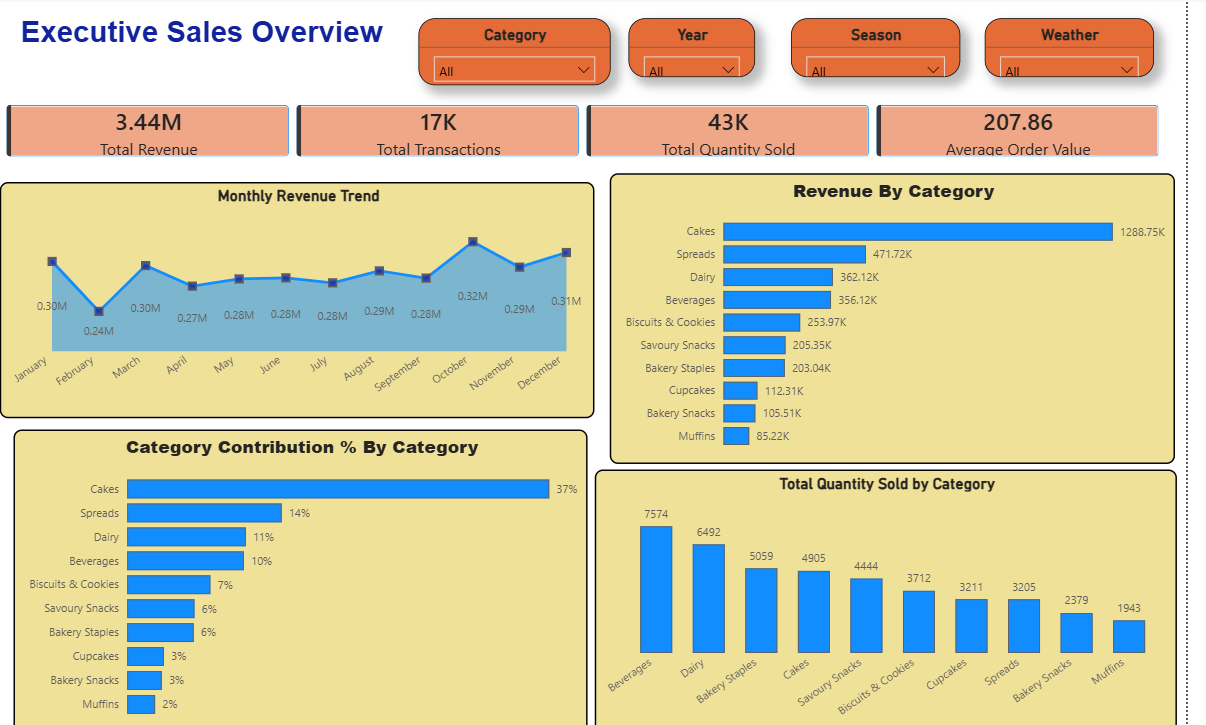

The dashboard page shown, as its layout file describes it:
{"tool":"powerbi","page":{"name":"Executive Sales Overview ","canvas":[1300,800],"ordinal":0},"visuals":[{"type":"cardVisual","fields":{"Data":["Core KPI Measures.Total Revenue","Core KPI Measures.Total Transactions","Core KPI Measures.Total Quantity Sold","Core KPI Measures.Average Order Value"]},"box":[0,100.3,1287.7,90.6],"z":0},{"type":"textbox","box":[9.8,15.3,439,64.1],"z":1000},{"type":"stackedAreaChart","title":"Monthly Revenue Trend","fields":{"Category":["bakery_sales.transaction_date.Variation.Date Hierarchy.Month"],"Y":["Core KPI Measures.Total Revenue"]},"box":[9.8,200.7,646.7,256.4],"z":2000},{"type":"clusteredBarChart","title":"Revenue By Category","fields":{"Y":["Core KPI Measures.Total Revenue"],"Category":["bakery_sales.Category"]},"box":[672.6,191.6,614,316],"z":3000},{"type":"barChart","title":"Category Contribution % By Category","fields":{"Category":["bakery_sales.Category"],"Y":["Core KPI Measures.Category Contribution %"]},"box":[25.1,469.7,624.4,330.3],"z":4000},{"type":"clusteredColumnChart","fields":{"Y":["Core KPI Measures.Total Quantity Sold"],"Category":["bakery_sales.Category"]},"box":[656.4,514.3,632.7,285.7],"z":5000},{"type":"slicer","title":"Year","fields":{"Values":["bakery_sales.transaction_date.Variation.Date Hierarchy.Year"]},"box":[692.6,23.7,138,64.1],"z":6000},{"type":"slicer","title":"Category","fields":{"Values":["bakery_sales.Festival"]},"box":[464.1,23.7,209,72.5],"z":7000},{"type":"slicer","title":" Weather","fields":{"Values":["bakery_sales.Weather"]},"box":[1080.1,23.7,184,64.1],"z":8000},{"type":"slicer","title":" Season ","fields":{"Values":["bakery_sales.Season"]},"box":[869.6,23.7,184,64.1],"z":10000}]}

Visuals, with their boxes in screenshot pixels (x1, y1, x2, y2), scaled from the page's 1300x800 canvas onto the 1206x725 screenshot:
cardVisual - Core KPI Measures.Total Revenue x Core KPI Measures.Total Transactions: select_region(0, 91, 1195, 173)
textbox: select_region(9, 14, 416, 72)
"Monthly Revenue Trend" stackedAreaChart: select_region(9, 182, 609, 414)
"Revenue By Category" clusteredBarChart: select_region(624, 174, 1194, 460)
"Category Contribution % By Category" barChart: select_region(23, 426, 603, 724)
clusteredColumnChart - Core KPI Measures.Total Quantity Sold x bakery_sales.Category: select_region(609, 466, 1196, 724)
"Year" slicer: select_region(643, 21, 771, 80)
"Category" slicer: select_region(431, 21, 624, 87)
" Weather" slicer: select_region(1002, 21, 1173, 80)
" Season " slicer: select_region(807, 21, 977, 80)
